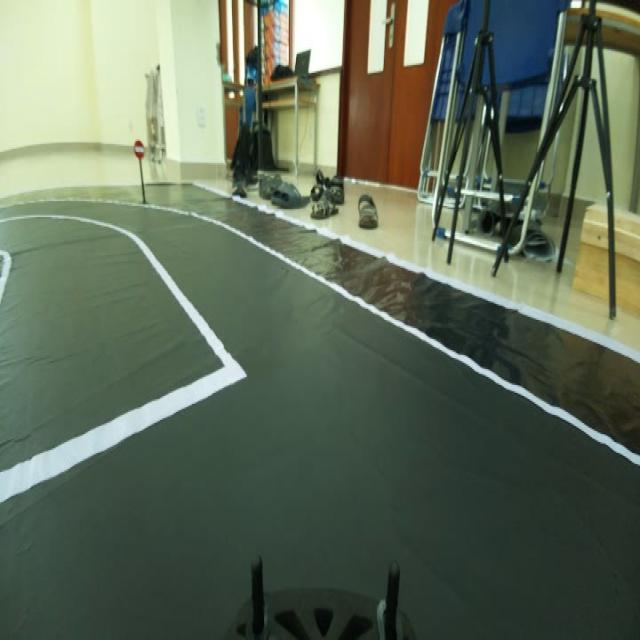no_entry: (131, 134, 147, 162)
